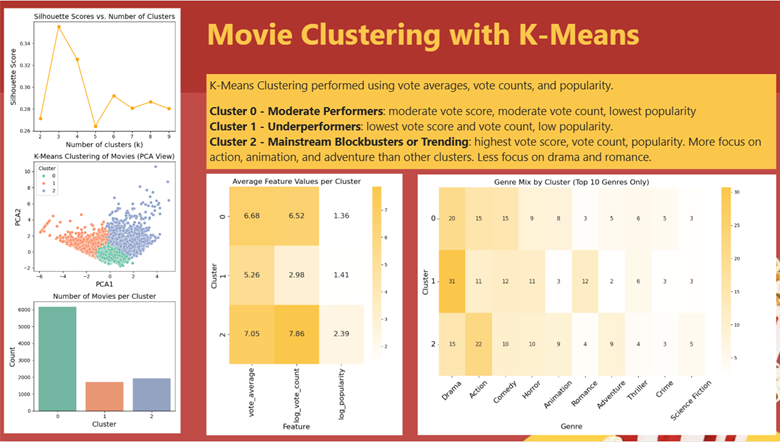

What the dashboard file says about the page in this screenshot:
{"tool":"powerbi","page":{"name":"Data Showcasing","canvas":[1280,720],"ordinal":2},"visuals":[{"type":"pythonVisual","fields":{"Values":["df.Action","df.Adventure","df.Animation","df.Comedy","df.Crime","df.Documentary","df.Drama","df.Family","df.Fantasy","df.History","df.Horror","df.Music"]},"box":[2.7,5.5,299.1,709.4],"z":0},{"type":"textbox","box":[333.4,15.1,738.3,83.7],"z":1000},{"type":"textbox","box":[338.9,119.4,931.7,155.1],"z":2000},{"type":"pythonVisual","fields":{"Values":["df.Action","df.Adventure","df.Animation","df.Comedy","df.Crime","df.Documentary","df.Drama","df.Family","df.Fantasy","df.History","df.Horror","df.Music"]},"box":[306,277.2,385.6,437.7],"z":3000},{"type":"pythonVisual","fields":{"Values":["df.Action","df.Adventure","df.Animation","df.Comedy","df.Crime","df.Documentary","df.Drama","df.Family","df.Fantasy","df.History","df.Horror","df.Music"]},"box":[674.9,278.9,605.1,436.2],"z":4000}]}

Visuals, with their boxes in screenshot pixels (x1, y1, x2, y2), scaled from the page's 1280x720 canvas onto the 780x442 screenshot:
pythonVisual - df.Action x df.Adventure: bbox=(2, 3, 184, 439)
textbox: bbox=(203, 9, 653, 61)
textbox: bbox=(207, 73, 774, 169)
pythonVisual - df.Action x df.Adventure: bbox=(186, 170, 421, 439)
pythonVisual - df.Action x df.Adventure: bbox=(411, 171, 779, 439)
